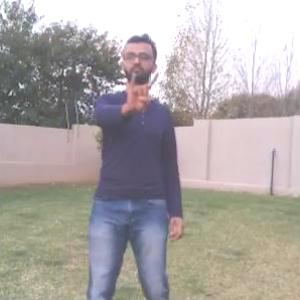takeoff-hand: (116, 63, 160, 114)
